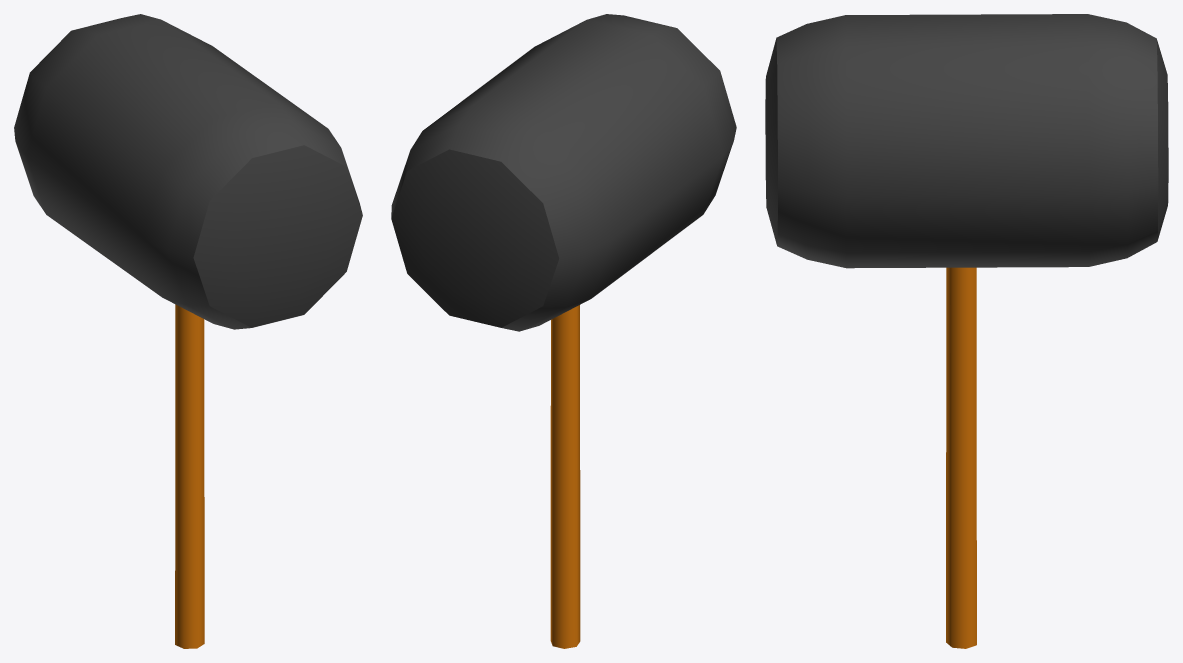
The model's file is Hammer.fbx.
3 views of the same model, side by side, from view 1: azimuth 30°, elevation 25°; view 2: azimuth 150°, elevation 25°; view 3: azimuth 270°, elevation 25° (orthographic). The views are drawn at different scales.
Visible parts, largest first — view 1: Hammer; view 2: Hammer; view 3: Hammer.
Part boxes in pixels (bbox=[...]): Hammer: bbox=[14, 14, 362, 648]; Hammer: bbox=[391, 14, 736, 648]; Hammer: bbox=[765, 14, 1168, 648].
Size of the model in its own units: 0.824 by 2.16 by 1.29.
